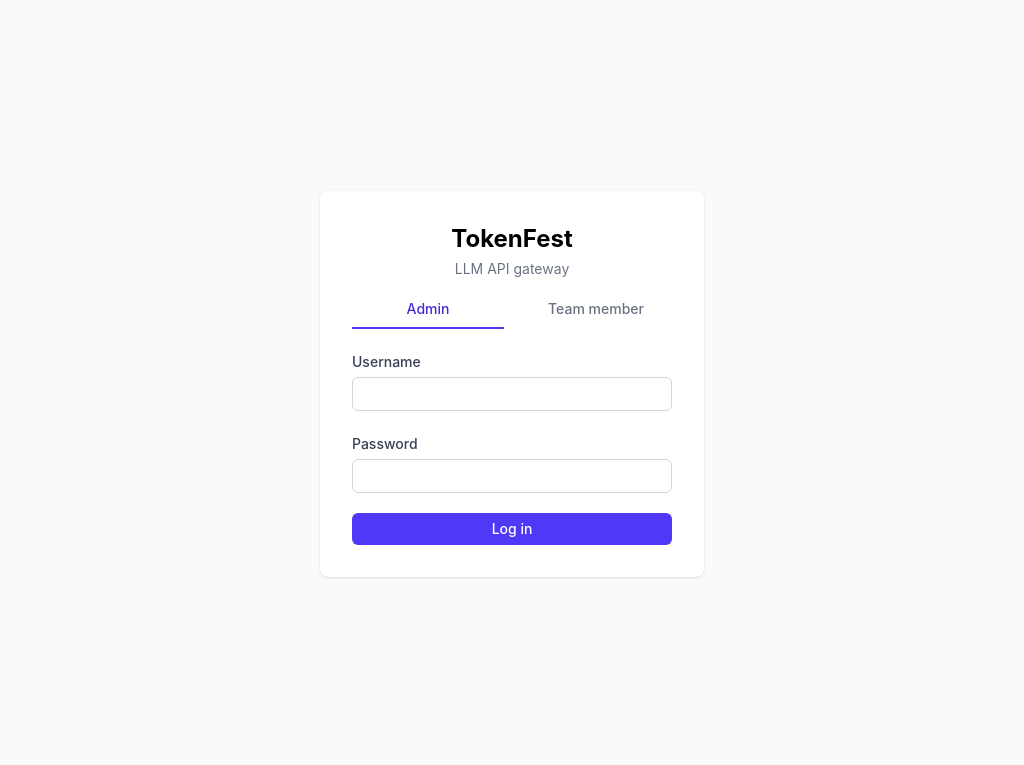
Test case: team member login opens their own dashboard
The width and height of the screenshot is (1024, 765).
Click the button "Team member".
click(596, 314)  # box [520,299,672,329]
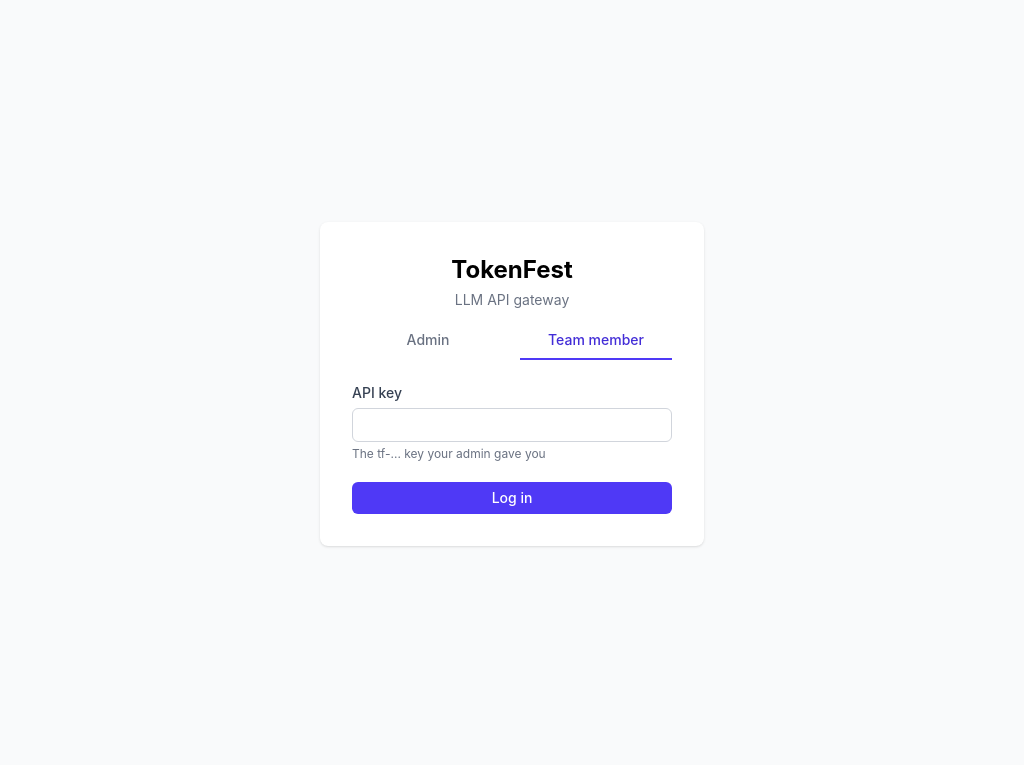
Type "tf-abc" into the password field labelled "API key The tf-... key your admin gave you".
click(512, 425); type("tf-abc")  # box [352,408,672,442]
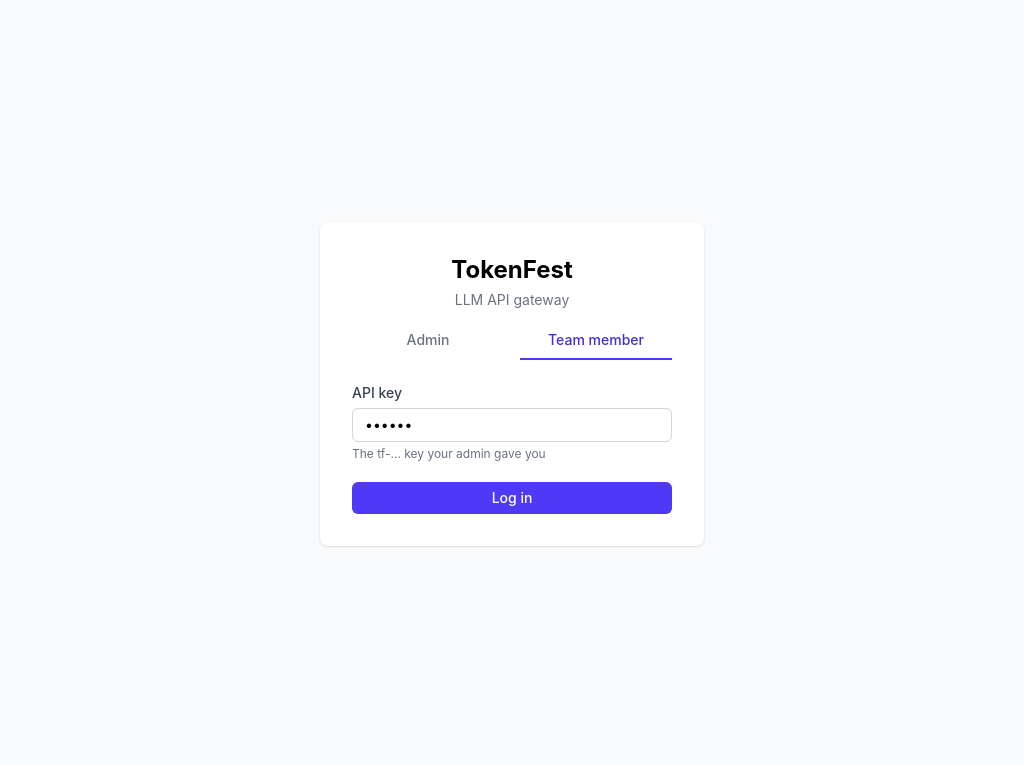
Click the button "Log in".
click(512, 498)  # box [352,482,672,514]
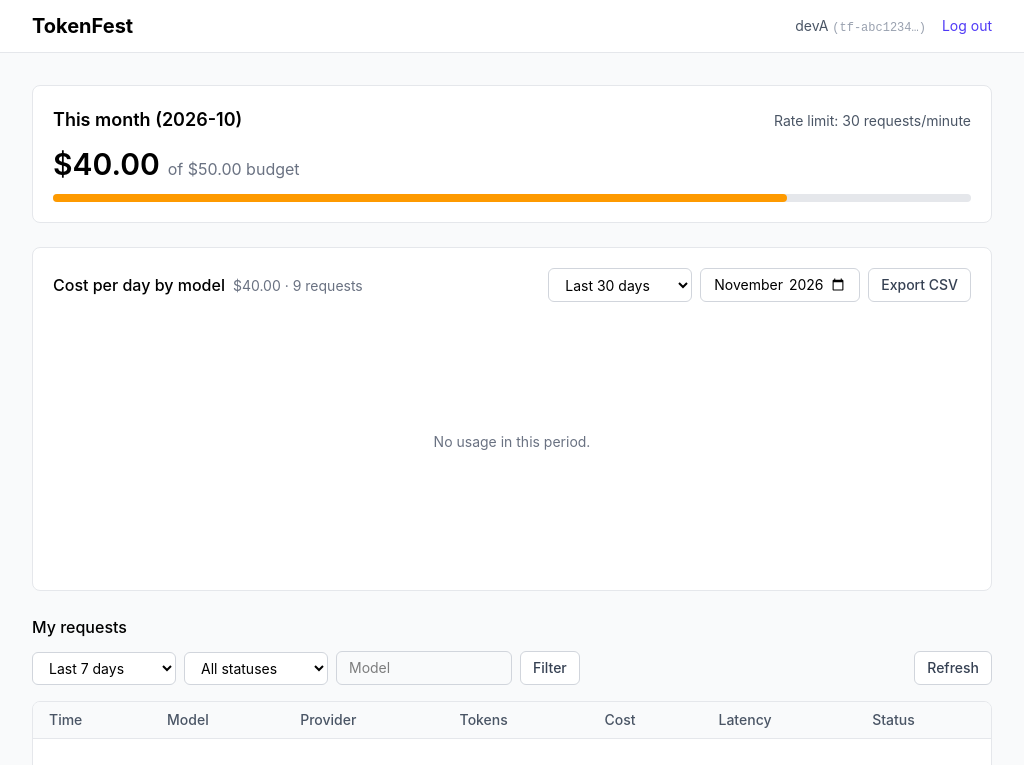
Expected: the heading "This month (2026-10)" is shown, [53,106,242,134]
Expected: the text "Rate limit: 30 requests/minute" is shown, [774,111,971,131]
Expected: the element named "80% of budget used" is shown, [53,194,971,202]
